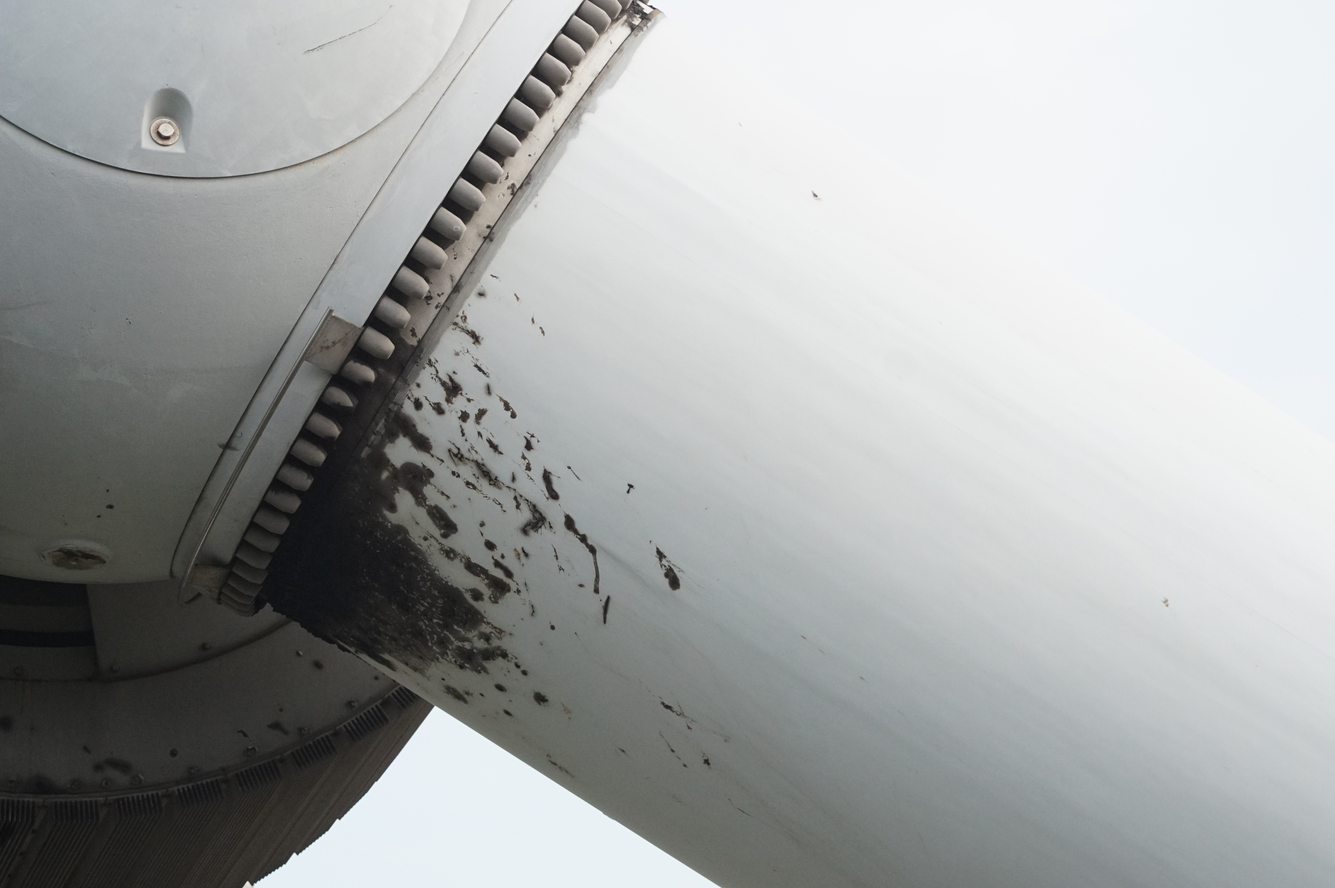Dirt: (263, 389, 515, 678), (559, 509, 601, 599), (653, 540, 687, 593), (541, 466, 560, 506), (600, 594, 610, 627)
